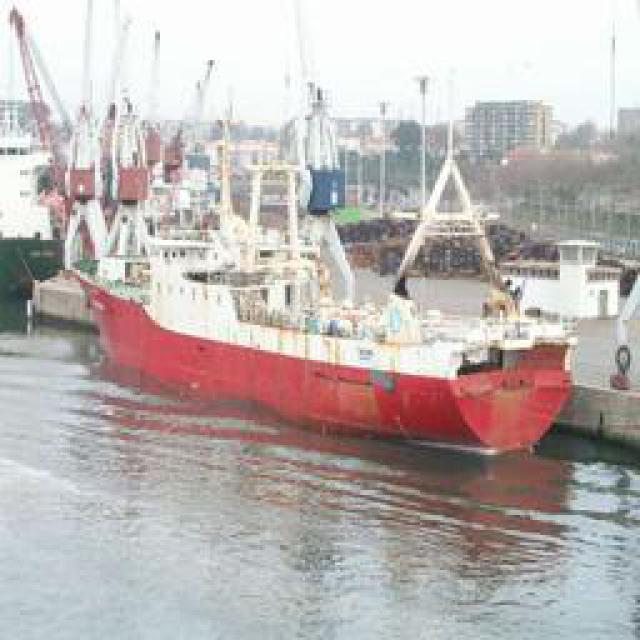Ship: (55, 59, 605, 454)
